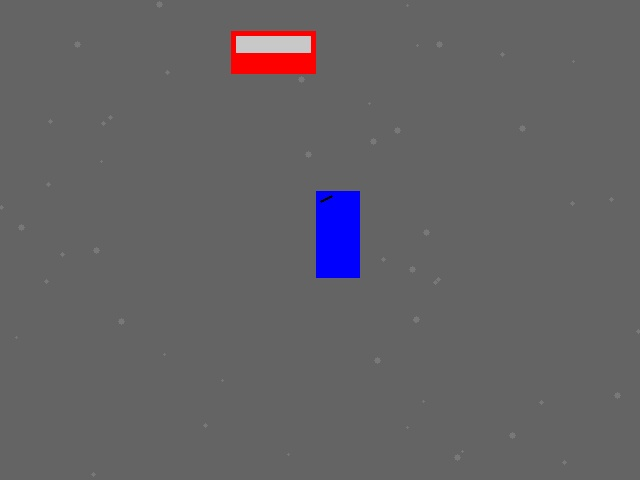car: (231, 31, 315, 73)
motorcycle: (316, 191, 359, 277)
